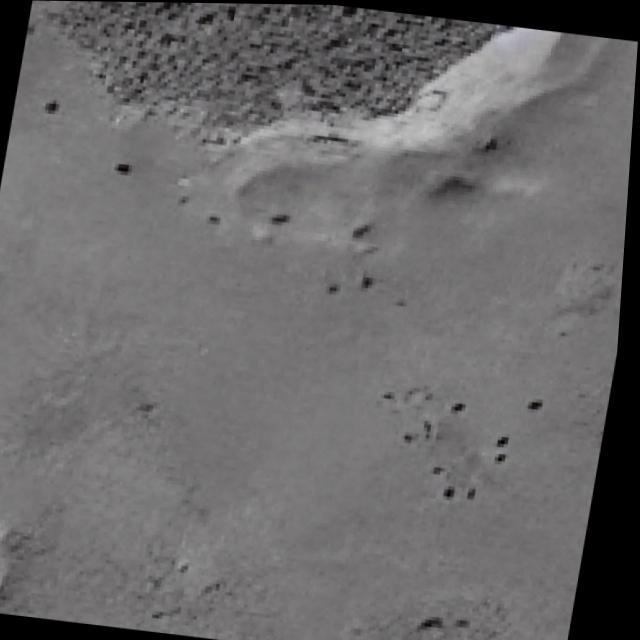Crater: (5, 0, 640, 217)
